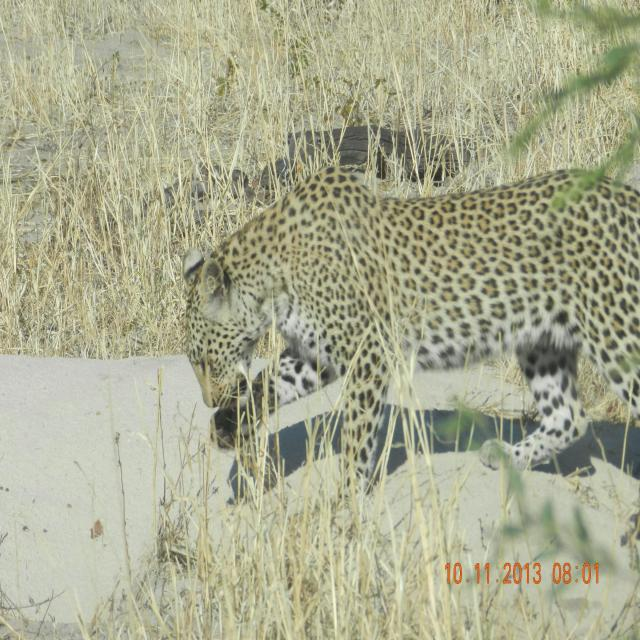Leopard: (154, 158, 640, 512)
